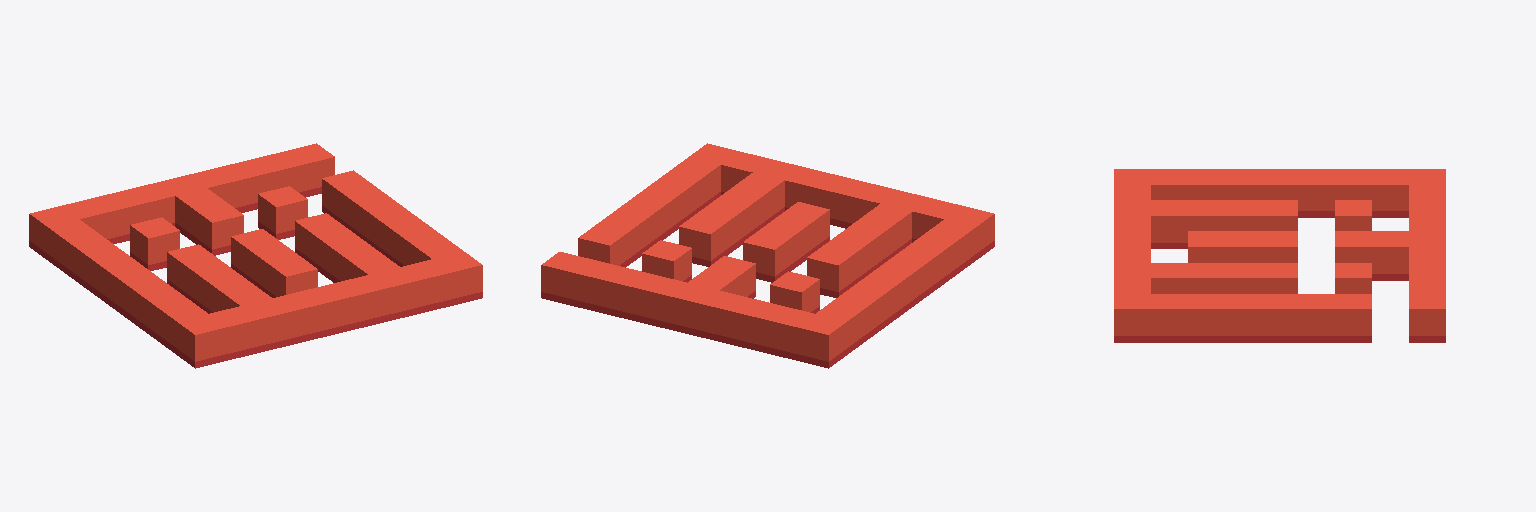
File: map1.obj
The picture shows the model from 3 angles: view 1: azimuth 30°, elevation 25°; view 2: azimuth 150°, elevation 25°; view 3: azimuth 270°, elevation 25°; orthographic projection.
Visible parts, largest first — view 1: mergedBlocks; view 2: mergedBlocks; view 3: mergedBlocks.
Part boxes in pixels (bbox=[...]): mergedBlocks: bbox=[29, 143, 482, 368]; mergedBlocks: bbox=[541, 143, 994, 368]; mergedBlocks: bbox=[1114, 169, 1445, 342].
Size of the model in its own units: 9 by 1 by 9.